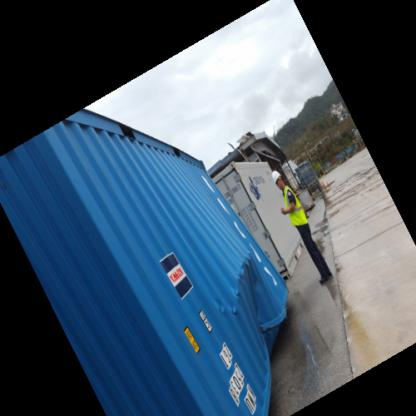Damage: (221, 248, 284, 349)
